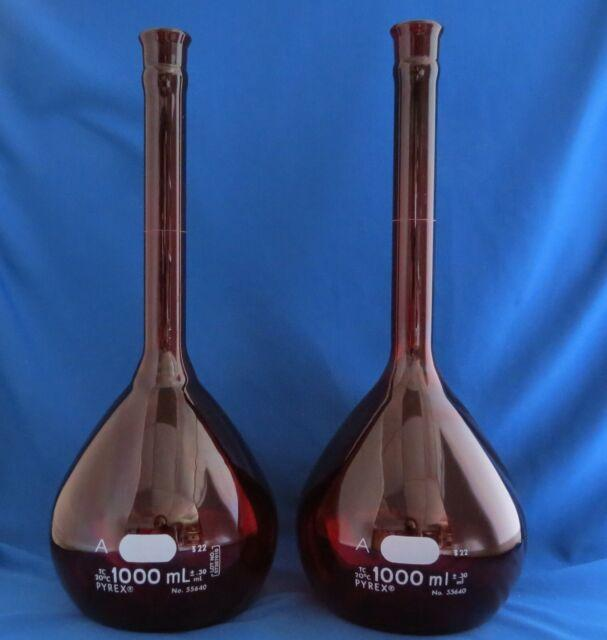Volumetric flask: (300, 15, 531, 635), (49, 18, 278, 630)
